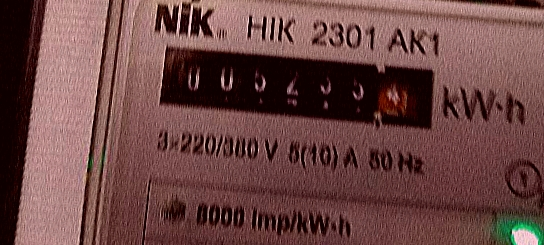0: (215, 59, 239, 94), (183, 60, 204, 92)
2: (281, 63, 306, 99)
3: (313, 64, 341, 99)
4: (382, 71, 407, 109)
5: (347, 66, 373, 104), (249, 60, 272, 95)
screen: (142, 27, 451, 144)
